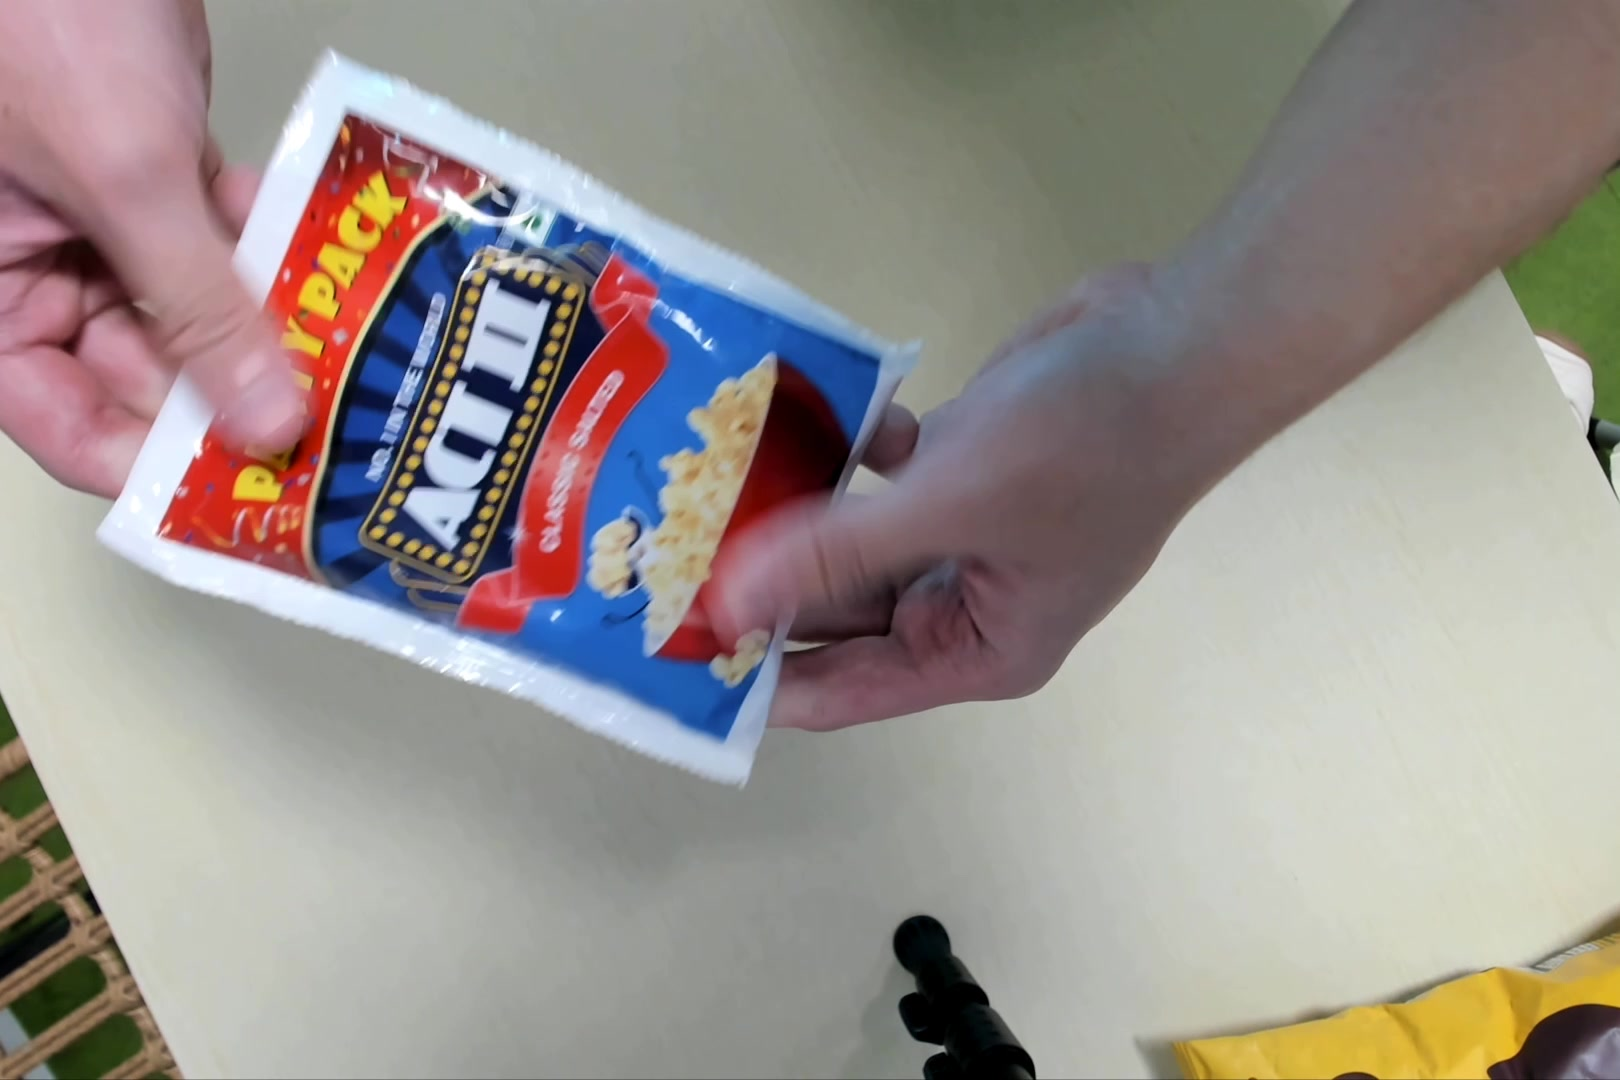PotatoChipsKeropok_100-199g_NonHalal_NonHealthy: (115, 51, 922, 800)
